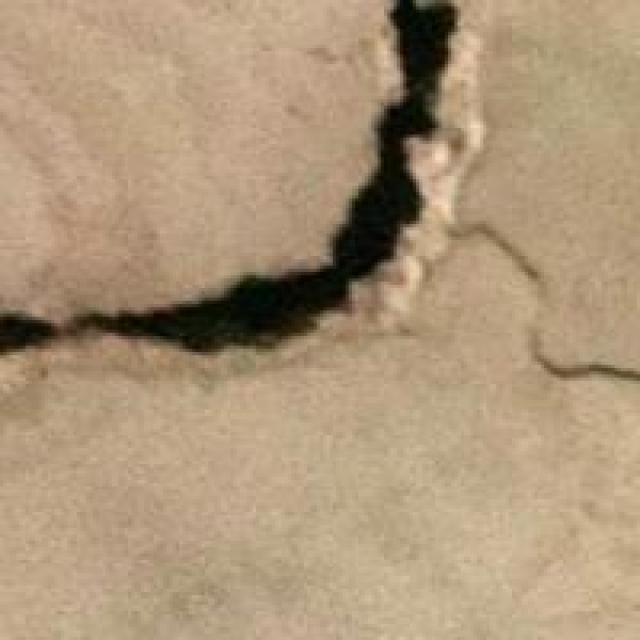crack: (9, 0, 470, 422)
